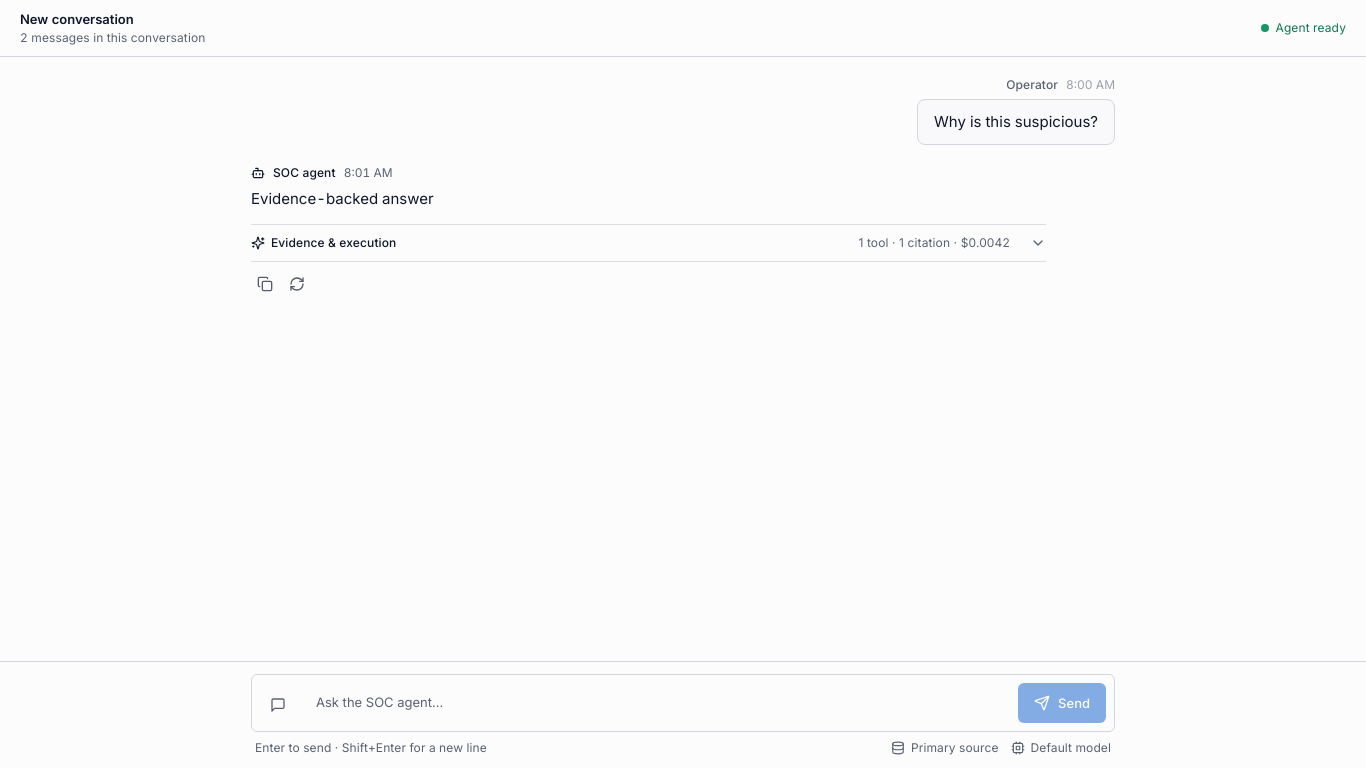
Scenario: ChatPanel › reveals the complete evidence and execution disclosure for an answer
Expected: the text "Evidence-backed answer" is shown, x1=251 y1=189 x2=434 y2=208
Click the button "Evidence & execution 1 tool · 1 citation · $0.0042" at (334, 242), box x1=251 y1=225 x2=1046 y2=261
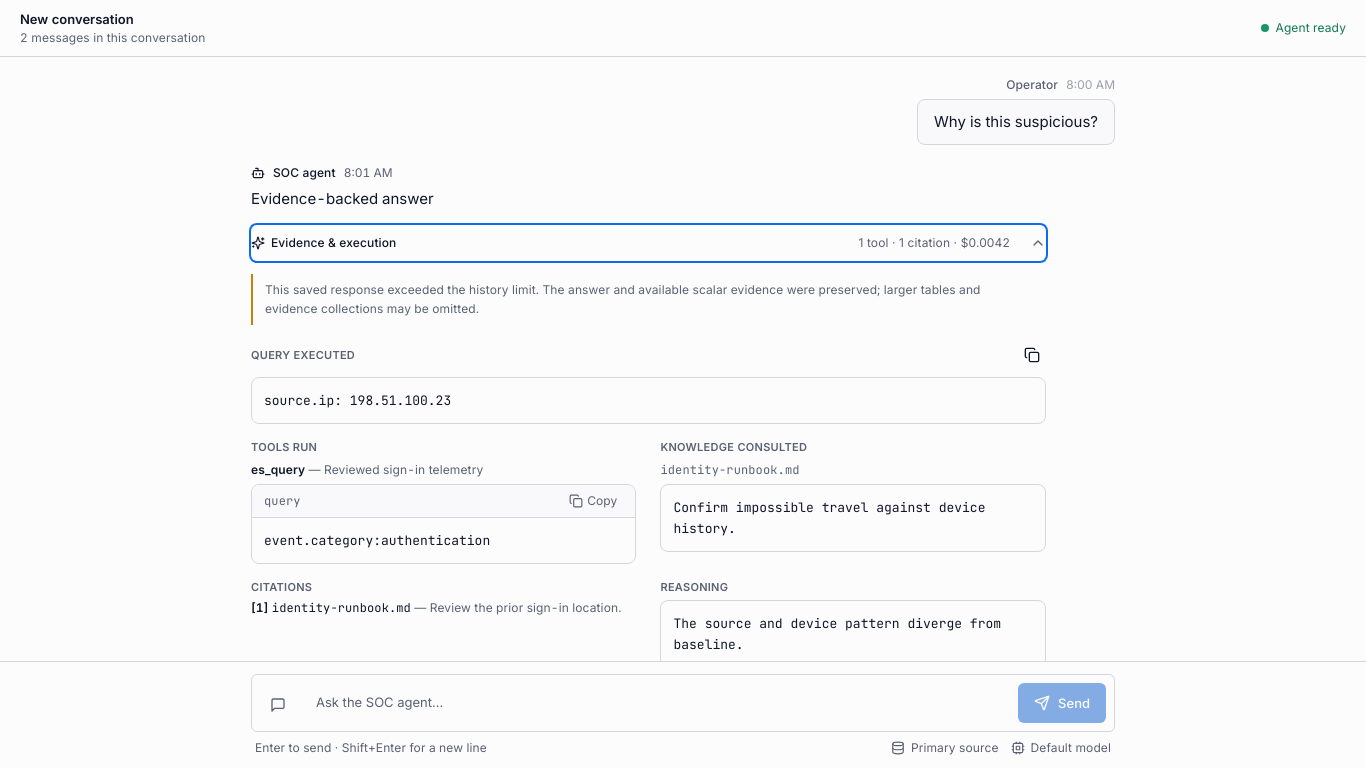
Result: the text "Query executed" is shown at x1=251 y1=348 x2=355 y2=362
Result: the text "saved response exceeded the history limit" is shown at x1=265 y1=282 x2=981 y2=316
Result: the text "source.ip: 198.51.100.23" is shown at x1=264 y1=392 x2=451 y2=409
